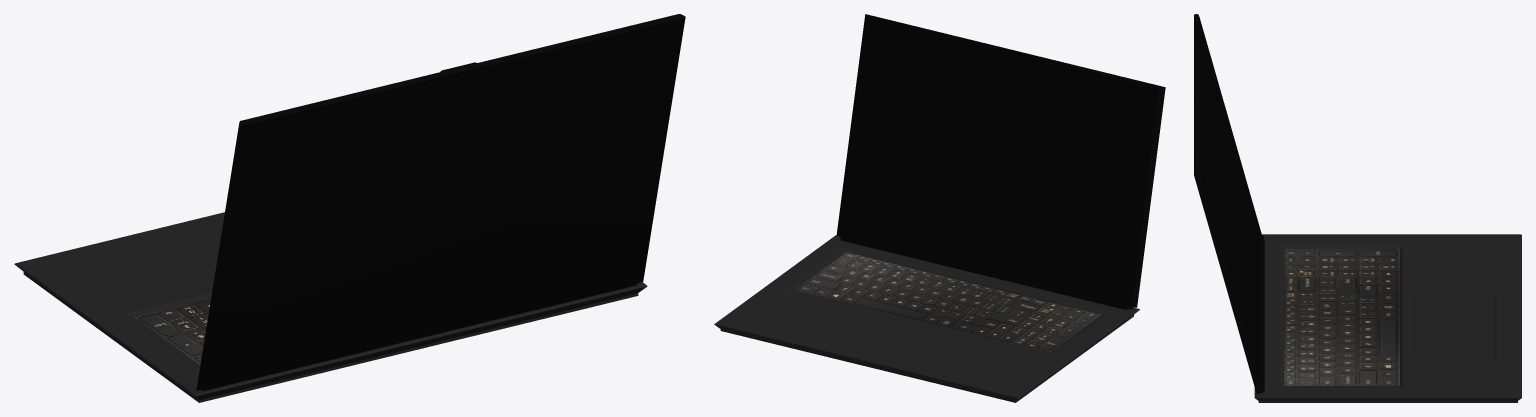
Rendered from laptop.glb.
3 views of the same model, side by side, from view 1: azimuth 30°, elevation 25°; view 2: azimuth 150°, elevation 25°; view 3: azimuth 270°, elevation 25° (orthographic). The views are drawn at different scales.
Visible parts, largest first — view 1: Cube.001, Cube; view 2: Cube.001, Cube; view 3: Cube, Cube.001.
Part boxes in pixels (x1,y1,x2,y2): Cube.001: [196, 14, 685, 391]; Cube: [14, 212, 647, 402]; Cube.001: [836, 14, 1165, 309]; Cube: [714, 235, 1139, 402]; Cube: [1254, 234, 1521, 402]; Cube.001: [1194, 14, 1264, 394].
Size of the model in its own units: 1.38 by 0.9102 by 1.17.
Materials: 1 (1 with a texture image).
